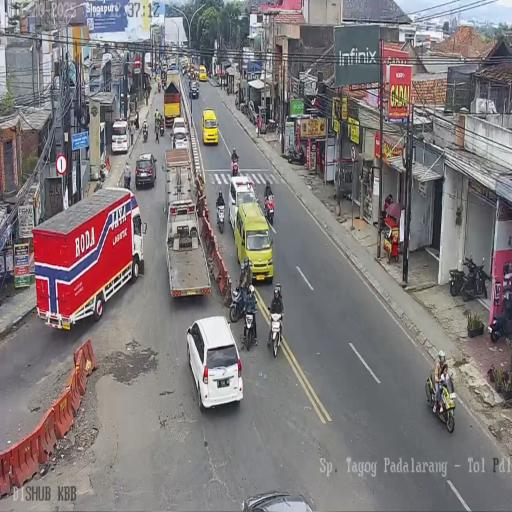car: (186, 315, 244, 410), (235, 201, 273, 279), (239, 489, 312, 512), (134, 152, 156, 188), (112, 118, 130, 154), (201, 108, 218, 145), (171, 117, 187, 149), (247, 100, 259, 124), (189, 79, 199, 99), (199, 64, 207, 82)
motorcycle: (448, 254, 488, 301), (426, 370, 455, 432), (229, 282, 253, 324), (489, 302, 510, 342), (267, 310, 284, 358), (285, 142, 305, 166), (263, 188, 275, 224), (215, 198, 225, 233), (230, 157, 239, 177), (275, 120, 281, 140), (124, 172, 130, 189), (240, 99, 246, 115), (159, 118, 164, 136), (143, 125, 148, 142), (161, 77, 166, 91)
truck: (164, 147, 194, 216), (163, 76, 181, 126), (144, 52, 152, 72), (180, 56, 188, 73), (194, 62, 200, 78), (161, 58, 168, 71), (188, 65, 194, 78)
